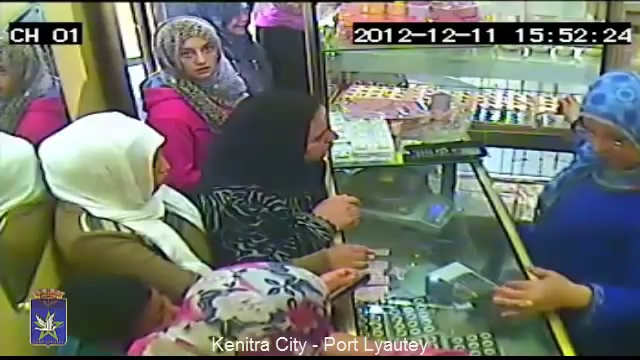face: (581, 113, 639, 174), (175, 34, 218, 77)
